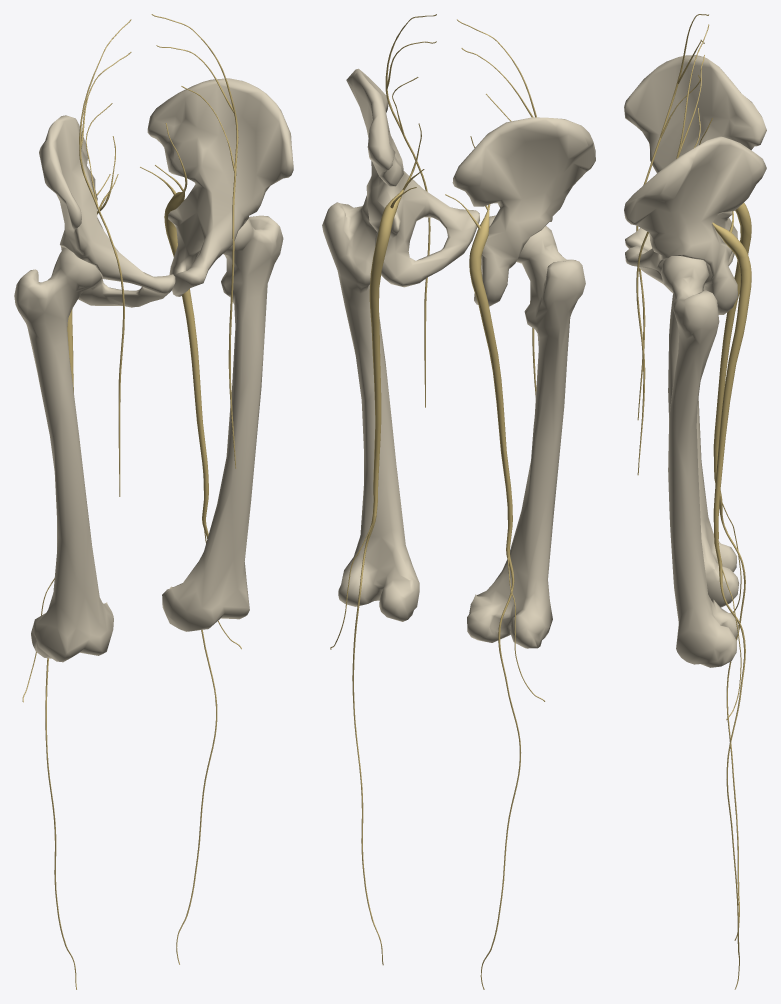
The model's file is lower-limb-mobile.glb.
The picture shows the model from 3 angles, left to right: view 1: azimuth 30°, elevation 25°; view 2: azimuth 150°, elevation 25°; view 3: azimuth 270°, elevation 25°; orthographic projection. The views are drawn at different scales.
Parts seen in each view (by area): view 1: za.hip-bone-l, za.femur-r, za.femur-l, za.hip-bone-r, za.sciatic-nerve-l, za.femoral-nerve-r, za.femoral-nerve-l, za.tibial-nerve-l, za.tibial-nerve-r; view 2: za.femur-r, za.femur-l, za.hip-bone-r, za.hip-bone-l, za.sciatic-nerve-r, za.sciatic-nerve-l, za.femoral-nerve-l, za.tibial-nerve-l, za.tibial-nerve-r, za.femoral-nerve-r; view 3: za.femur-l, za.hip-bone-l, za.hip-bone-r, za.femur-r, za.sciatic-nerve-l, za.sciatic-nerve-r, za.femoral-nerve-l, za.femoral-nerve-r, za.tibial-nerve-l, za.tibial-nerve-r.
Boxes of the visible parts, x1,y1,x2,y2 form: za.hip-bone-l: (147,78,293,296); za.femur-r: (14,247,113,662); za.femur-l: (162,215,283,631); za.hip-bone-r: (39,115,175,307); za.sciatic-nerve-l: (140,123,208,518); za.femoral-nerve-r: (79,19,131,496); za.femoral-nerve-l: (151,14,238,468); za.tibial-nerve-l: (176,518,217,964); za.tibial-nerve-r: (45,658,76,989); za.femur-r: (467,226,585,648); za.femur-l: (322,195,419,621); za.hip-bone-r: (452,117,595,306); za.hip-bone-l: (346,68,479,287); za.sciatic-nerve-r: (445,136,512,548); za.sciatic-nerve-l: (369,123,424,516); za.femoral-nerve-l: (385,14,436,407); za.tibial-nerve-l: (352,516,383,965); za.tibial-nerve-r: (480,548,521,989); za.femoral-nerve-r: (457,19,536,397); za.femur-l: (660,256,738,667); za.hip-bone-l: (624,136,766,314); za.hip-bone-r: (624,55,766,266); za.femur-r: (668,294,738,607); za.sciatic-nerve-l: (712,211,751,560); za.sciatic-nerve-r: (699,118,751,495); za.femoral-nerve-l: (636,24,709,475); za.femoral-nerve-r: (636,14,708,420); za.tibial-nerve-l: (718,560,745,989); za.tibial-nerve-r: (719,495,745,940).
Bounding box in the file's own units: 0.2975 × 1.04 × 0.1429.
